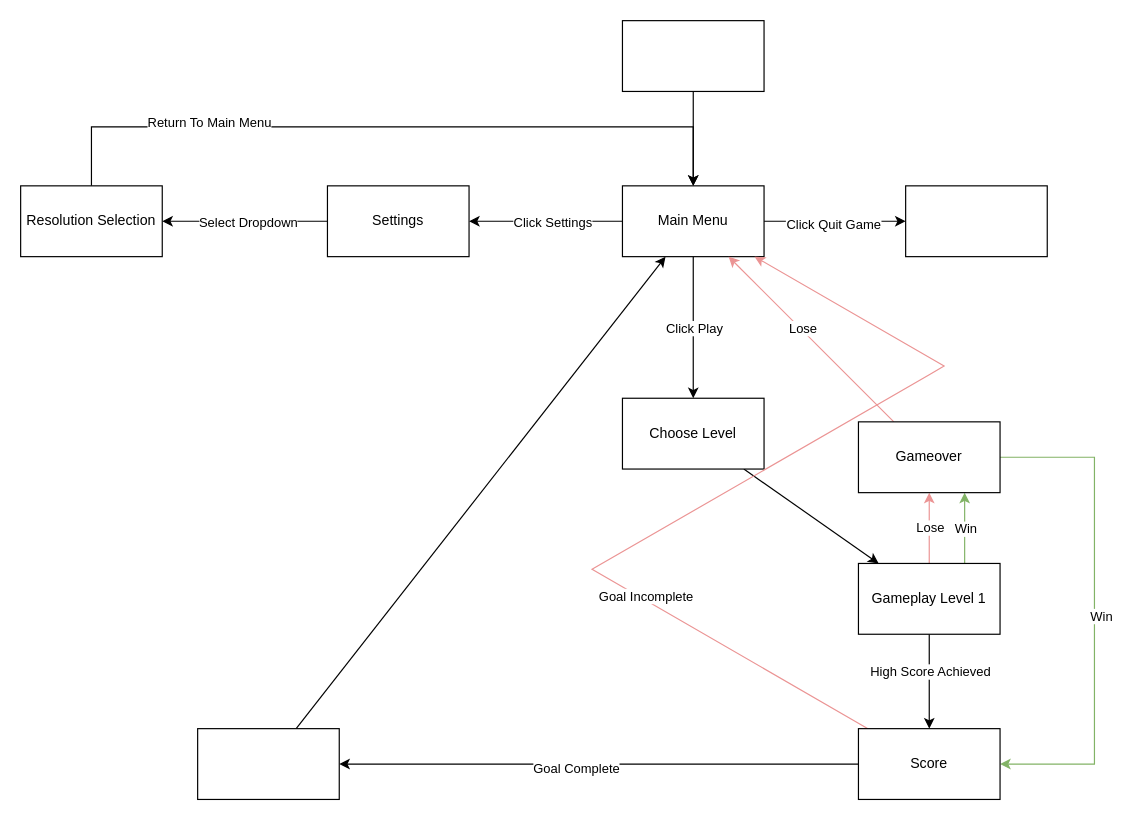
Image size: 1133x820. Some labels were removed from this diagram. Here are the shapes that lost their labels. From the top down, the centre of each, then its label:
At (692,55): "Start Game".
At (975,221): "Quit Game".
At (267,763): "Unlock Level".
